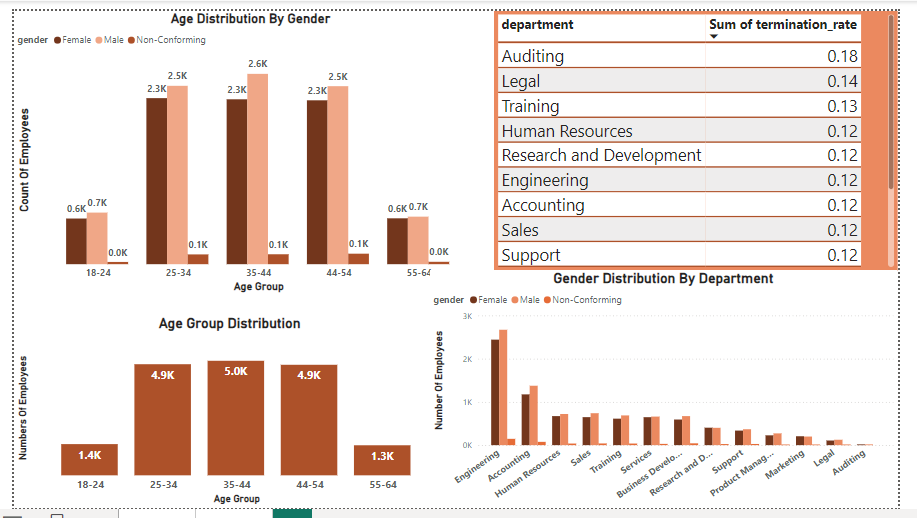

The page's visual inventory and layout, read from the dashboard file:
{"tool":"powerbi","page":{"name":"Page 2","canvas":[1280,720],"ordinal":1},"visuals":[{"type":"columnChart","title":"Age Group Distribution","fields":{"Category":["age_group.age_group"],"Y":["Sum(age_group.count)"]},"box":[0,440.6,625,279.4],"z":0},{"type":"clusteredColumnChart","title":"Age Distribution By Gender","fields":{"Category":["age_group_gender.age_group"],"Y":["Sum(age_group_gender.count)"],"Series":["age_group_gender.gender"]},"box":[0,0,685.4,413.3],"z":1},{"type":"tableEx","fields":{"Values":["turnover_rate.department","Sum(turnover_rate.termination_rate)"]},"box":[695.5,0,584.6,375.8],"z":2},{"type":"clusteredColumnChart","title":"Gender Distribution By Department","fields":{"Category":["gender_department.department"],"Y":["Sum(gender_department.count)"],"Series":["gender_department.gender"]},"box":[603.4,375.8,676.8,344.2],"z":3}]}

Visuals, with their boxes in screenshot pixels (x1, y1, x2, y2), scaled from the page's 1280x720 canvas onto the 917x518 screenshot:
"Age Group Distribution" columnChart: <bbox>0, 317, 448, 517</bbox>
"Age Distribution By Gender" clusteredColumnChart: <bbox>0, 0, 491, 297</bbox>
tableEx - turnover_rate.department x Sum(turnover_rate.termination_rate): <bbox>498, 0, 916, 270</bbox>
"Gender Distribution By Department" clusteredColumnChart: <bbox>432, 270, 916, 517</bbox>
